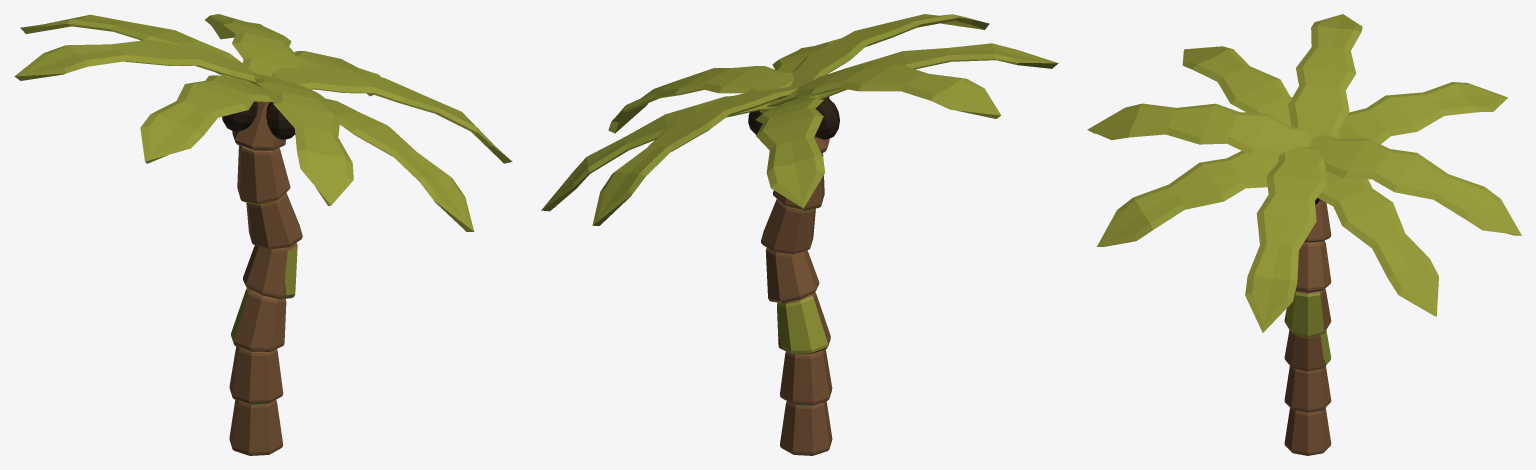
File: palm_tree.glb
The picture shows the model from 3 angles, left to right: view 1: azimuth 30°, elevation 25°; view 2: azimuth 150°, elevation 25°; view 3: azimuth 270°, elevation 25°; orthographic projection. The views are drawn at different scales.
Parts seen in each view (by area): view 1: Circle_0; view 2: Circle_0; view 3: Circle_0.
Part boxes in pixels (x1,y1,x2,y2): Circle_0: [14, 14, 512, 455]; Circle_0: [541, 14, 1058, 455]; Circle_0: [1087, 14, 1521, 455].
Size of the model in its own units: 18.19 by 16.27 by 18.11.
Materials: 1 (1 with a texture image).
